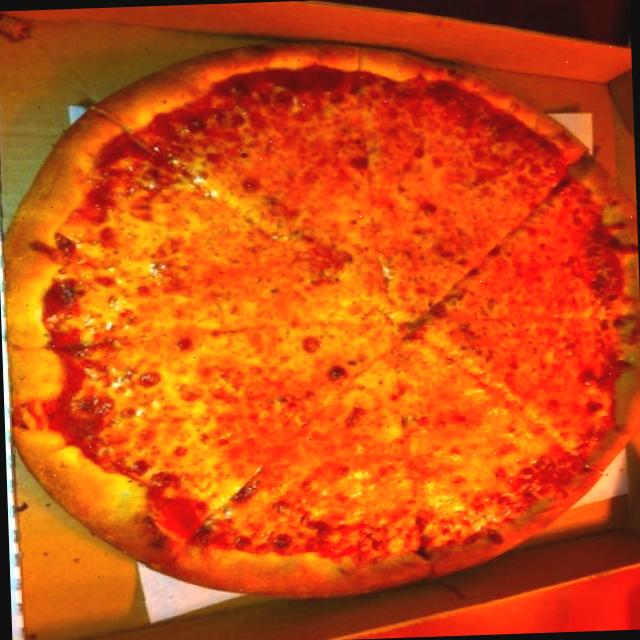pizza: (5, 44, 640, 592)
